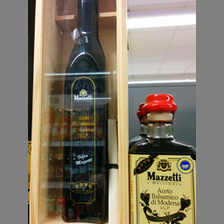vinegar: (55, 1, 111, 224), (128, 94, 197, 224)
